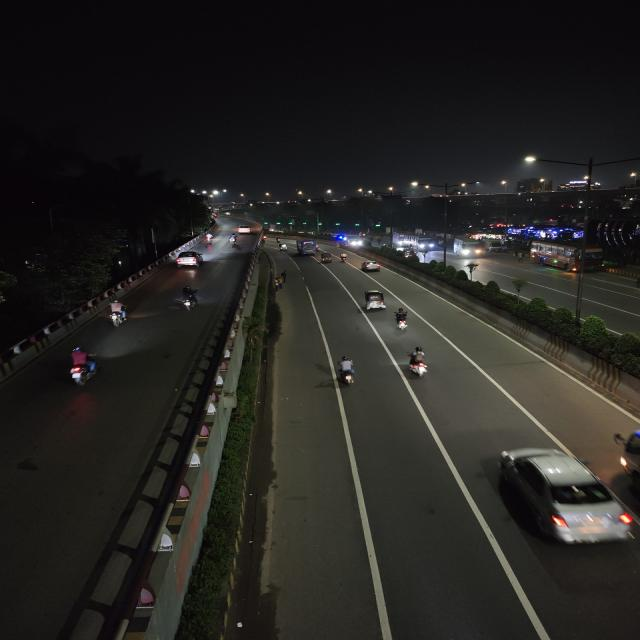bus: (531, 239, 604, 273), (452, 238, 486, 258), (414, 236, 440, 252), (296, 240, 318, 255)
car: (482, 441, 640, 557), (176, 249, 204, 269), (360, 259, 382, 273), (236, 223, 254, 234)
cng: (362, 288, 389, 312), (319, 252, 332, 264), (338, 251, 351, 263)
motorcycle: (611, 426, 640, 500), (61, 345, 100, 389), (403, 345, 437, 383), (332, 354, 364, 388), (104, 300, 132, 328), (176, 285, 202, 313), (389, 307, 415, 335), (228, 233, 240, 245), (277, 240, 287, 252), (203, 236, 214, 246)
pedestrian: (274, 276, 280, 291), (281, 270, 287, 281)
